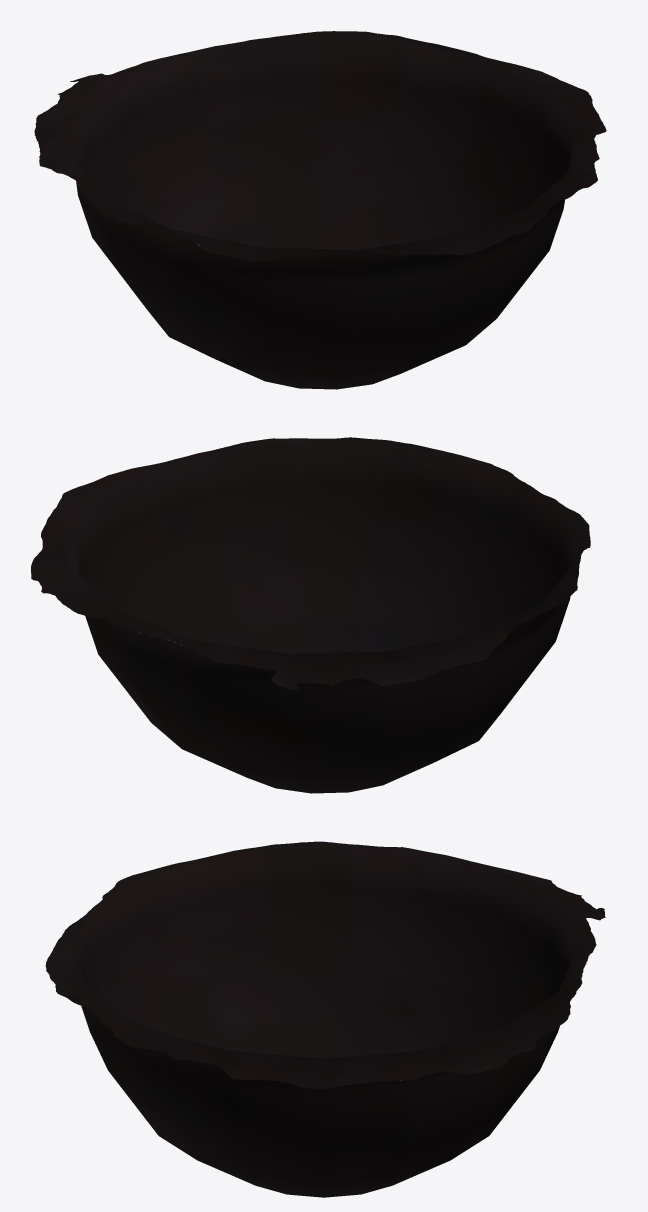
File: orb_pedistal_tar.dae
3 renders of one model, top to bottom at view 1: azimuth 30°, elevation 25°; view 2: azimuth 150°, elevation 25°; view 3: azimuth 270°, elevation 25°, orthographic.
Parts seen in each view (by area): view 1: tar; view 2: tar; view 3: tar.
Part boxes in pixels (x1,y1,x2,y2): tar: (34,31,606,389); tar: (31,437,590,793); tar: (45,841,605,1197).
Size of the model in its own units: 0.5742 by 0.4972 by 0.1969.
